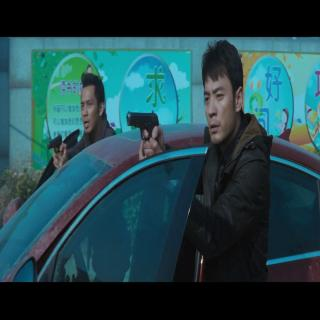gun: (126, 107, 166, 163), (46, 132, 66, 168)
